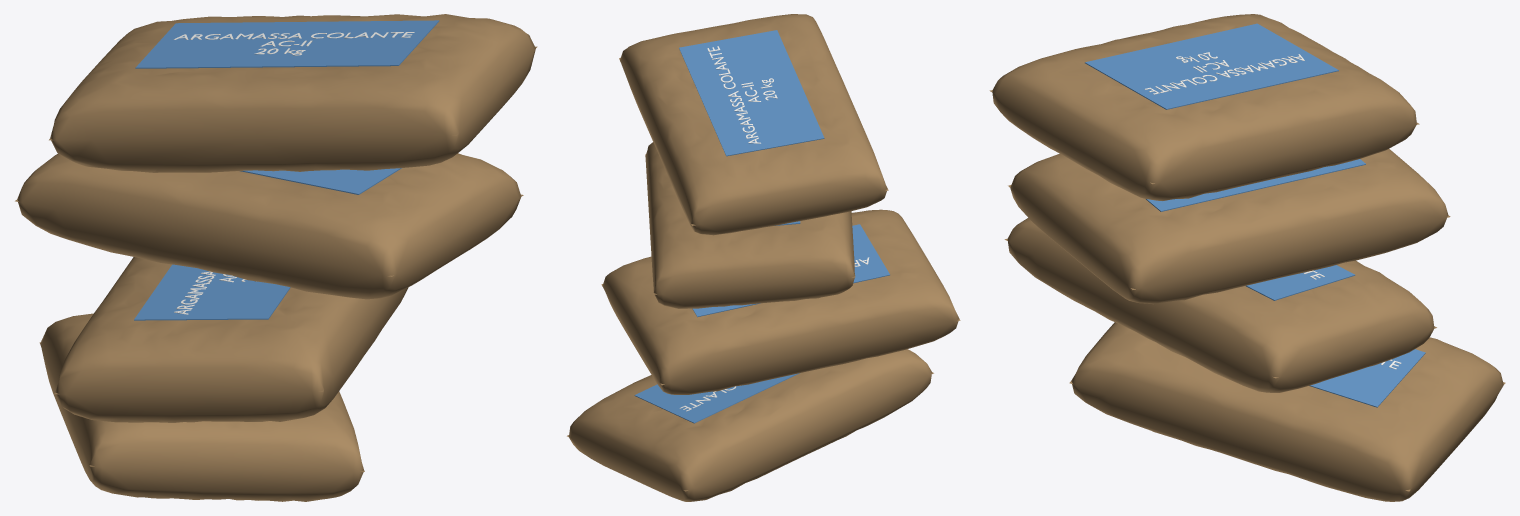
Rendered from REV-COL-002_anim.glb.
3 renders of one model, left to right at view 1: azimuth 30°, elevation 25°; view 2: azimuth 150°, elevation 25°; view 3: azimuth 270°, elevation 25°, orthographic. The views are drawn at different scales.
Parts seen in each view (by area): view 1: REV-COL-002_anim3, REV-COL-002_anim2, REV-COL-002_anim1, REV-COL-002_anim0; view 2: REV-COL-002_anim3, REV-COL-002_anim1, REV-COL-002_anim0, REV-COL-002_anim2; view 3: REV-COL-002_anim3, REV-COL-002_anim0, REV-COL-002_anim2, REV-COL-002_anim1.
Part boxes in pixels (x1=…): REV-COL-002_anim3: x1=49, y1=14, x2=537, y2=172; REV-COL-002_anim2: x1=15, y1=153, x2=523, y2=299; REV-COL-002_anim1: x1=54, y1=257, x2=408, y2=422; REV-COL-002_anim0: x1=39, y1=313, x2=364, y2=501; REV-COL-002_anim3: x1=619, y1=14, x2=888, y2=235; REV-COL-002_anim1: x1=601, y1=209, x2=960, y2=394; REV-COL-002_anim0: x1=567, y1=349, x2=933, y2=501; REV-COL-002_anim2: x1=645, y1=142, x2=855, y2=308; REV-COL-002_anim3: x1=989, y1=14, x2=1419, y2=200; REV-COL-002_anim0: x1=1069, y1=322, x2=1505, y2=501; REV-COL-002_anim2: x1=1008, y1=149, x2=1450, y2=304; REV-COL-002_anim1: x1=1004, y1=218, x2=1436, y2=392.
Size of the model in its own units: 0.6184 by 0.59 by 0.6692.
3 materials, 1 textured.
